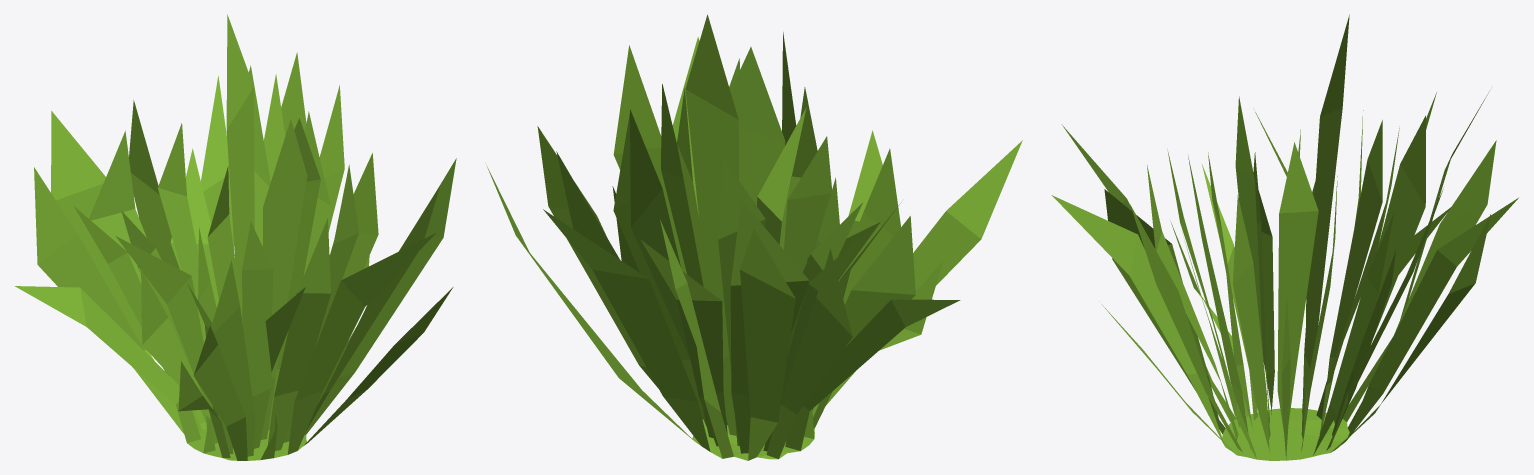
Rendered from grass patch.fbx.
3 views of the same model, side by side, from view 1: azimuth 30°, elevation 25°; view 2: azimuth 150°, elevation 25°; view 3: azimuth 270°, elevation 25° (orthographic). The views are drawn at different scales.
Parts seen in each view (by area): view 1: grass patch rounded; view 2: grass patch rounded; view 3: grass patch rounded.
Part boxes in pixels (<box>): grass patch rounded: <box>15,14,456,460</box>; grass patch rounded: <box>486,14,1022,460</box>; grass patch rounded: <box>1051,14,1518,460</box>.
Bounding box in the file's own units: 68.59 × 70.38 × 69.65.
